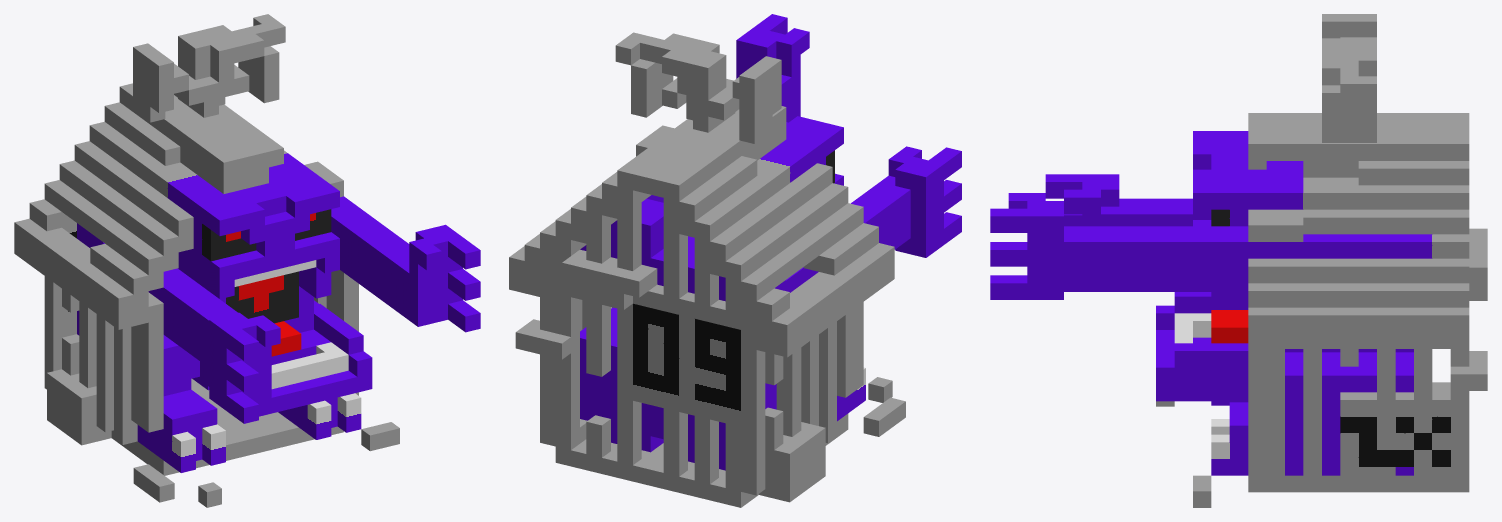
Rendered from HOME#09_GLB.glb.
The picture shows the model from 3 angles, left to right: view 1: azimuth 30°, elevation 25°; view 2: azimuth 150°, elevation 25°; view 3: azimuth 270°, elevation 25°; orthographic projection. The views are drawn at different scales.
Visible parts, largest first — view 1: Node-Local; view 2: Node-Local; view 3: Node-Local.
Boxes of the visible parts, x1,y1,x2,y2 form: Node-Local: [14, 14, 480, 507]; Node-Local: [509, 14, 961, 507]; Node-Local: [990, 14, 1487, 507].
Size of the model in its own units: 18 by 24 by 27.
Materials: 1 (1 with a texture image).
